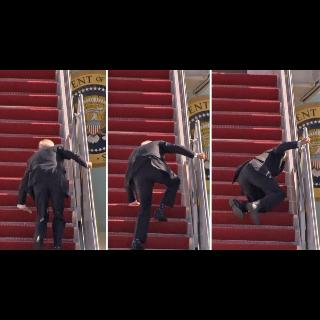anomaly: (125, 140, 205, 250), (230, 137, 310, 223)
normal: (18, 138, 92, 250)
